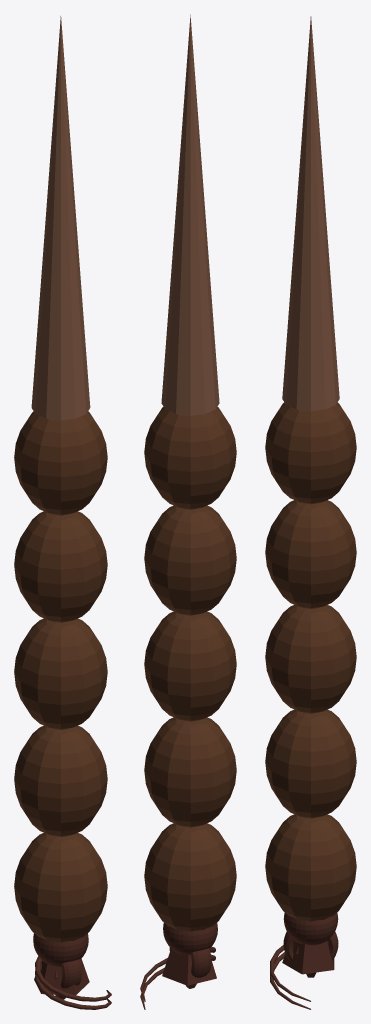
File: Wand 229.glb
The picture shows the model from 3 angles, left to right: view 1: azimuth 30°, elevation 25°; view 2: azimuth 210°, elevation 25°; view 3: azimuth 270°, elevation 25°; orthographic projection. The views are drawn at different scales.
Visible parts, largest first — view 1: GeneratedWand, Pommel_4, Pommel_9, Pommel_2, Pommel_10; view 2: GeneratedWand, Pommel_4, Pommel_9, Pommel_2; view 3: GeneratedWand, Pommel_9, Pommel_4, Pommel_2, Pommel_10.
Boxes of the visible parts, <box> form: GeneratedWand: <box>14,16,111,1001</box>; Pommel_4: <box>33,933,88,966</box>; Pommel_9: <box>34,958,89,994</box>; Pommel_2: <box>60,959,81,988</box>; Pommel_10: <box>35,963,111,1009</box>; GeneratedWand: <box>140,14,236,1001</box>; Pommel_4: <box>163,922,217,955</box>; Pommel_9: <box>162,948,216,985</box>; Pommel_2: <box>169,947,211,977</box>; GeneratedWand: <box>265,16,356,1001</box>; Pommel_9: <box>282,941,334,974</box>; Pommel_4: <box>283,912,338,945</box>; Pommel_2: <box>283,931,338,960</box>; Pommel_10: <box>270,952,310,1009</box>.
Bounding box in the file's own units: 0.0481 × 0.5274 × 0.0449.
